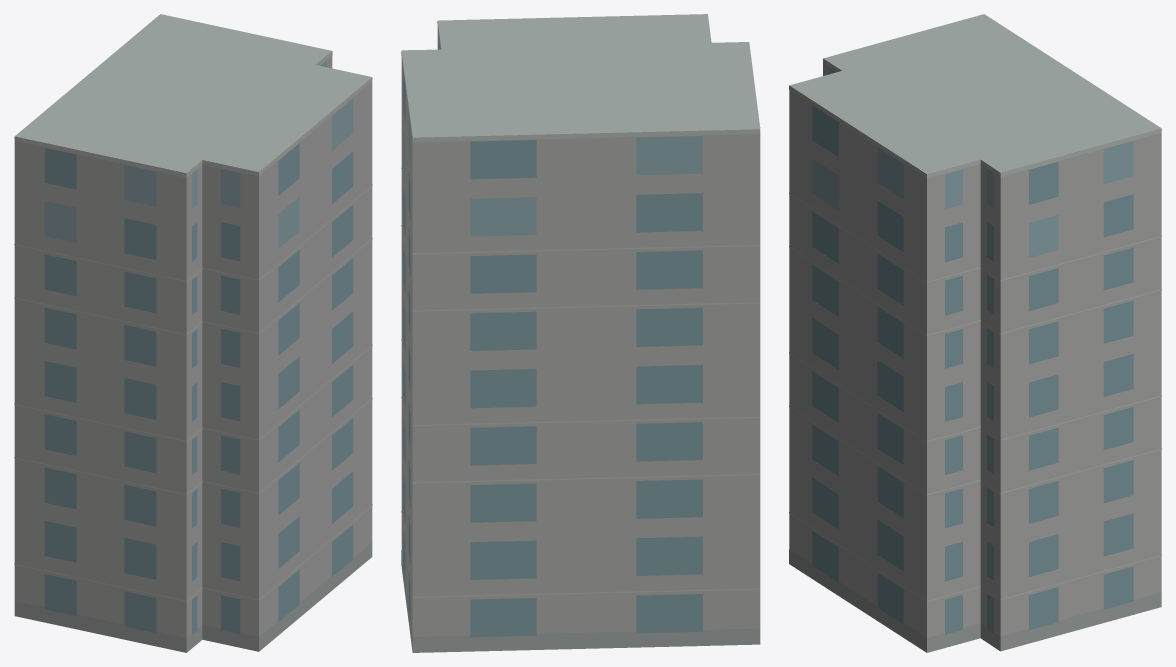
The model's file is survey-upis-32792737.glb.
3 renders of one model, left to right at view 1: azimuth 30°, elevation 25°; view 2: azimuth 150°, elevation 25°; view 3: azimuth 270°, elevation 25°, orthographic. The views are drawn at different scales.
Parts seen in each view (by area): view 1: survey-upis-32792737.tmp; view 2: survey-upis-32792737.tmp; view 3: survey-upis-32792737.tmp.
Part boxes in pixels (<box>): survey-upis-32792737.tmp: <box>14,14,372,652</box>; survey-upis-32792737.tmp: <box>401,14,760,652</box>; survey-upis-32792737.tmp: <box>789,14,1161,652</box>.
Bounding box in the file's own units: 18.84 × 26.2 × 18.5.
